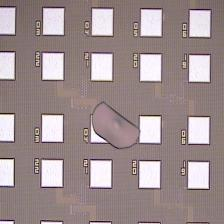PARTICLE: (93, 102, 143, 151)
